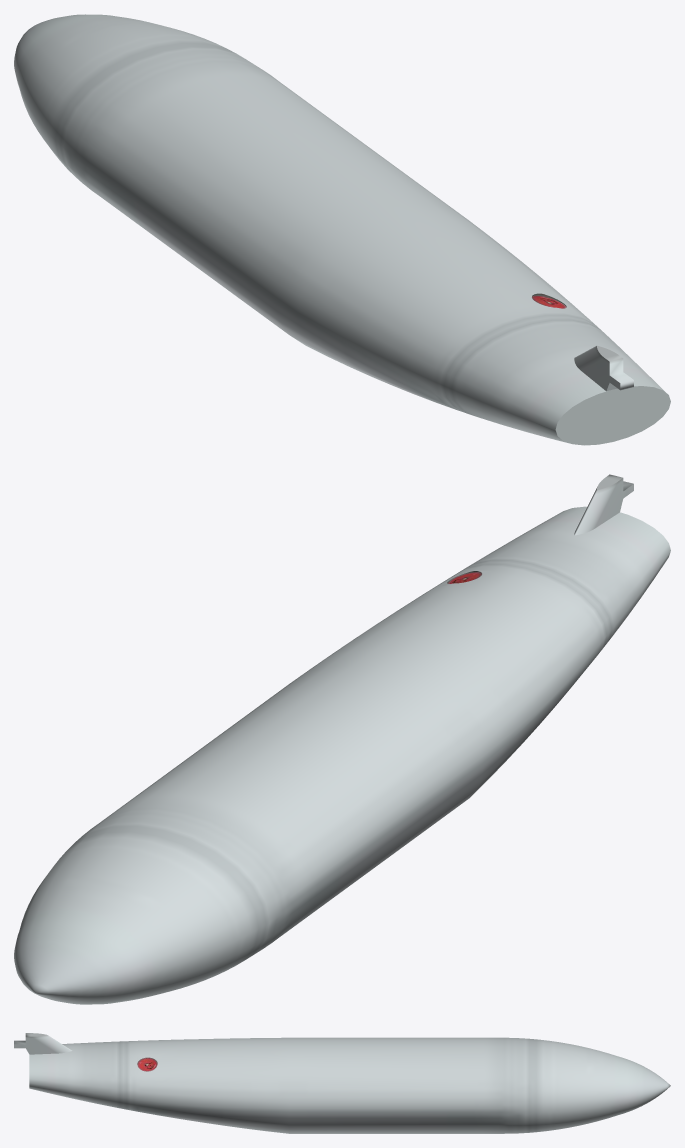
The model's file is f16ftkm.glb.
3 renders of one model, top to bottom at view 1: azimuth 30°, elevation 25°; view 2: azimuth 150°, elevation 25°; view 3: azimuth 270°, elevation 25°, orthographic. The views are drawn at different scales.
Visible parts, largest first — view 1: f16ftkm_body; view 2: f16ftkm_body; view 3: f16ftkm_body.
Part boxes in pixels (bbox=[...]): f16ftkm_body: bbox=[14, 14, 670, 445]; f16ftkm_body: bbox=[14, 474, 670, 1004]; f16ftkm_body: bbox=[14, 1033, 670, 1133].
Size of the model in its own units: 1.08 by 0.8009 by 5.3.
1 material, 1 textured.
